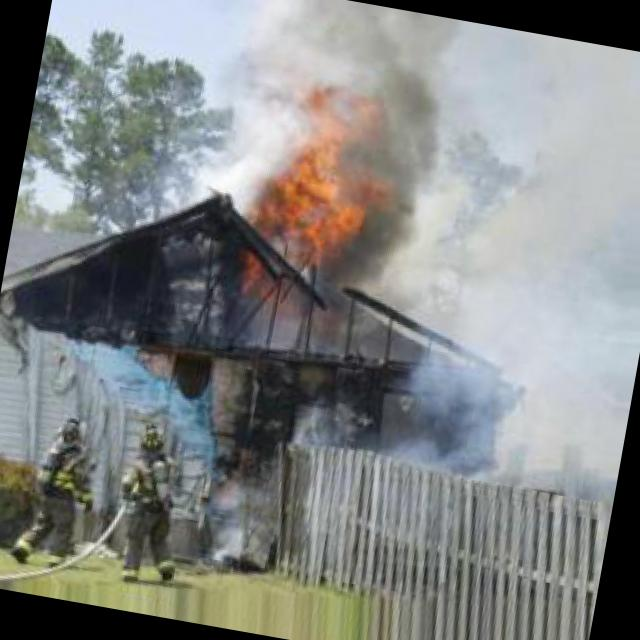fire: (229, 118, 380, 293)
smoke: (325, 5, 470, 301), (287, 332, 433, 470), (194, 458, 288, 584)
